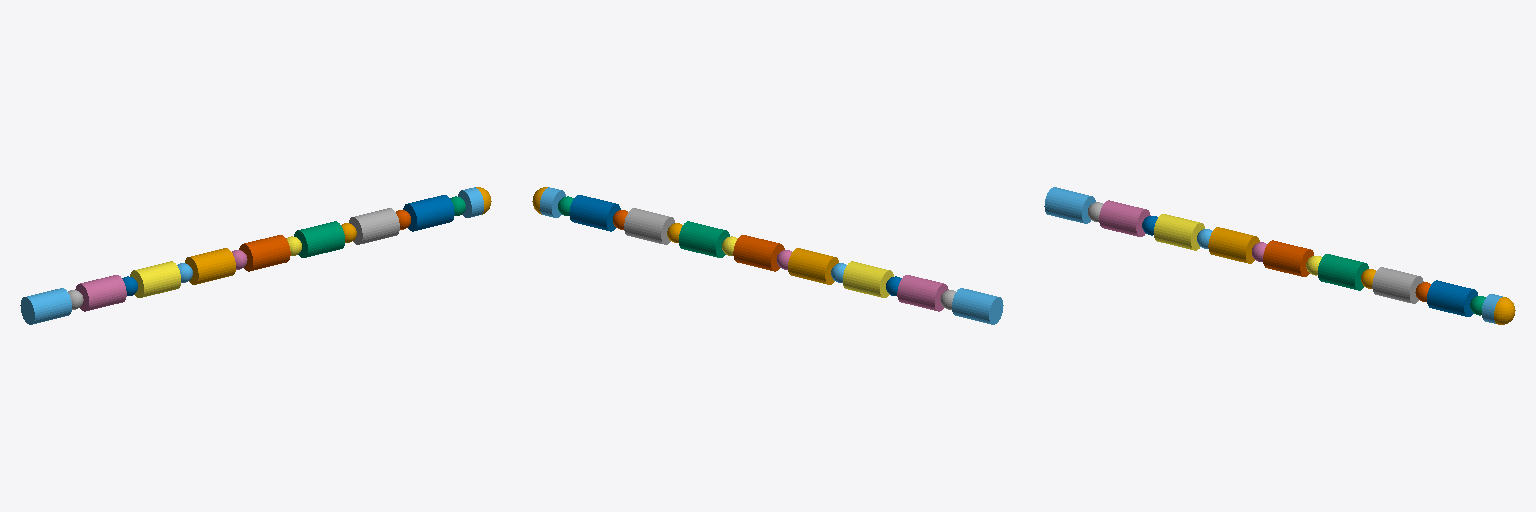
The robot description file, URDF, robot "snake/snake_8_segments":
<?xml version="1.0"?>
<robot name="snake/snake_8_segments">
<link name="eye">
  <inertial>
   <mass value="1"/>
   <inertia ixx="0.004000000000000001" ixy="0" ixz="0" iyy="0.004000000000000001" iyz="0" izz="0.004000000000000001"/>
  </inertial>
  <collision>
    <origin rpy="0 0 0" xyz="0 0 0"/>
    <geometry>
      <sphere radius="0.1"/>
    </geometry>
  </collision>
  <visual>
    <origin rpy="0 0 0" xyz="0 0 0"/>
    <geometry>
      <sphere radius="0.1"/>
    </geometry>
  </visual>
</link>

 <link name="body0">
  <inertial>
    <mass value="1"/>
    <inertia ixx="0.003333333333333334" ixy="0" ixz="0" iyy="0.003333333333333334" iyz="0" izz="0.0025000000000000005"/>
  </inertial>
  <visual>
    <origin rpy="0 1.57 0" xyz="0 0 0"/>
    <geometry>
      <cylinder length="0.1" radius="0.1"/>
    </geometry>
  </visual>
  <collision>
    <origin rpy="0 1.57 0" xyz="0 0 0"/>
    <geometry>
      <cylinder length="0.1" radius="0.1"/>
    </geometry>
  </collision>
 </link>

<joint name="joint_fixed_eye_body0" type="fixed">
  <origin rpy="0 0 0" xyz="-0.05 0 0"/>
  <parent link="eye"/>
  <child link="body0"/>
</joint>

<link name="body1_joint_link">
  <inertial>
   <mass value="1"/>
   <inertia ixx="0.0019599999999999995" ixy="0" ixz="0" iyy="0.0019599999999999995" iyz="0" izz="0.0019599999999999995"/>
  </inertial>
  <collision>
    <origin rpy="0 0 0" xyz="0 0 0"/>
    <geometry>
      <sphere radius="0.06999999999999999"/>
    </geometry>
  </collision>
  <visual>
    <origin rpy="0 0 0" xyz="0 0 0"/>
    <geometry>
      <sphere radius="0.06999999999999999"/>
    </geometry>
  </visual>
</link>

<joint name="joint_fixed_body0_body1_joint_link" type="fixed">
  <origin rpy="0 0 0" xyz="-0.12000999999999999 0 0"/>
  <parent link="body0"/>
  <child link="body1_joint_link"/>
</joint>

<joint name="joint_spherical_body1_joint_link_body1_Z" type="revolute">
  <origin rpy="0 0 0" xyz="0 0 0"/>
  <parent link="body1_joint_link"/>
  <child link="body1_joint_link_spherical_joint_link"/>
  <axis xyz="0 0 1"/>
  <dynamics damping="0.01" friction="0.5"/>
  <limit lower="-1.1780972450961724" upper="1.1780972450961724" effort="0.01" velocity="100"/>
</joint>

<link name="body1_joint_link_spherical_joint_link" physical="0">
  <inertial>
   <mass value="1"/>
   <inertia ixx="4.0000000000000003e-07" ixy="0" ixz="0" iyy="4.0000000000000003e-07" iyz="0" izz="4.0000000000000003e-07"/>
  </inertial>
  <collision>
    <origin rpy="0 0 0" xyz="0 0 0"/>
    <geometry>
      <sphere radius="0.001"/>
    </geometry>
  </collision>
  <visual>
    <origin rpy="0 0 0" xyz="0 0 0"/>
    <geometry>
      <sphere radius="0.001"/>
    </geometry>
  </visual>
</link>

<joint name="joint_spherical_body1_joint_link_body1_Y" type="revolute">
  <origin rpy="0 0 0" xyz="0 0 0"/>
  <parent link="body1_joint_link_spherical_joint_link"/>
  <child link="body1"/>
  <axis xyz="0 1 0"/>
  <dynamics damping="0.01" friction="0.5"/>
  <limit lower="-1.1780972450961724" upper="1.1780972450961724" effort="0.01" velocity="100"/>
</joint>

 <link name="body1">
  <inertial>
    <mass value="1"/>
    <inertia ixx="0.010000000000000002" ixy="0" ixz="0" iyy="0.010000000000000002" iyz="0" izz="0.0025000000000000005"/>
  </inertial>
  <visual>
    <origin rpy="0 1.57 0" xyz="-0.22001000000000004 0 0"/>
    <geometry>
      <cylinder length="0.30000000000000004" radius="0.1"/>
    </geometry>
  </visual>
  <collision>
    <origin rpy="0 1.57 0" xyz="-0.22001000000000004 0 0"/>
    <geometry>
      <cylinder length="0.30000000000000004" radius="0.1"/>
    </geometry>
  </collision>
 </link>

<link name="body2_joint_link">
  <inertial>
   <mass value="1"/>
   <inertia ixx="0.0019599999999999995" ixy="0" ixz="0" iyy="0.0019599999999999995" iyz="0" izz="0.0019599999999999995"/>
  </inertial>
  <collision>
    <origin rpy="0 0 0" xyz="0 0 0"/>
    <geometry>
      <sphere radius="0.06999999999999999"/>
    </geometry>
  </collision>
  <visual>
    <origin rpy="0 0 0" xyz="0 0 0"/>
    <geometry>
      <sphere radius="0.06999999999999999"/>
    </geometry>
  </visual>
</link>

<joint name="joint_fixed_body1_body2_joint_link" type="fixed">
  <origin rpy="0 0 0" xyz="-0.44001000000000007 0 0"/>
  <parent link="body1"/>
  <child link="body2_joint_link"/>
</joint>

<joint name="joint_spherical_body2_joint_link_body2_Z" type="revolute">
  <origin rpy="0 0 0" xyz="0 0 0"/>
  <parent link="body2_joint_link"/>
  <child link="body2_joint_link_spherical_joint_link"/>
  <axis xyz="0 0 1"/>
  <dynamics damping="0.01" friction="0.5"/>
  <limit lower="-1.1780972450961724" upper="1.1780972450961724" effort="0.01" velocity="100"/>
</joint>

<link name="body2_joint_link_spherical_joint_link" physical="0">
  <inertial>
   <mass value="1"/>
   <inertia ixx="4.0000000000000003e-07" ixy="0" ixz="0" iyy="4.0000000000000003e-07" iyz="0" izz="4.0000000000000003e-07"/>
  </inertial>
  <collision>
    <origin rpy="0 0 0" xyz="0 0 0"/>
    <geometry>
      <sphere radius="0.001"/>
    </geometry>
  </collision>
  <visual>
    <origin rpy="0 0 0" xyz="0 0 0"/>
    <geometry>
      <sphere radius="0.001"/>
    </geometry>
  </visual>
</link>

<joint name="joint_spherical_body2_joint_link_body2_Y" type="revolute">
  <origin rpy="0 0 0" xyz="0 0 0"/>
  <parent link="body2_joint_link_spherical_joint_link"/>
  <child link="body2"/>
  <axis xyz="0 1 0"/>
  <dynamics damping="0.01" friction="0.5"/>
  <limit lower="-1.1780972450961724" upper="1.1780972450961724" effort="0.01" velocity="100"/>
</joint>

 <link name="body2">
  <inertial>
    <mass value="1"/>
    <inertia ixx="0.010000000000000002" ixy="0" ixz="0" iyy="0.010000000000000002" iyz="0" izz="0.0025000000000000005"/>
  </inertial>
  <visual>
    <origin rpy="0 1.57 0" xyz="-0.22001000000000004 0 0"/>
    <geometry>
      <cylinder length="0.30000000000000004" radius="0.1"/>
    </geometry>
  </visual>
  <collision>
    <origin rpy="0 1.57 0" xyz="-0.22001000000000004 0 0"/>
    <geometry>
      <cylinder length="0.30000000000000004" radius="0.1"/>
    </geometry>
  </collision>
 </link>

<link name="body3_joint_link">
  <inertial>
   <mass value="1"/>
   <inertia ixx="0.0019599999999999995" ixy="0" ixz="0" iyy="0.0019599999999999995" iyz="0" izz="0.0019599999999999995"/>
  </inertial>
  <collision>
    <origin rpy="0 0 0" xyz="0 0 0"/>
    <geometry>
      <sphere radius="0.06999999999999999"/>
    </geometry>
  </collision>
  <visual>
    <origin rpy="0 0 0" xyz="0 0 0"/>
    <geometry>
      <sphere radius="0.06999999999999999"/>
    </geometry>
  </visual>
</link>

<joint name="joint_fixed_body2_body3_joint_link" type="fixed">
  <origin rpy="0 0 0" xyz="-0.44001000000000007 0 0"/>
  <parent link="body2"/>
  <child link="body3_joint_link"/>
</joint>

<joint name="joint_spherical_body3_joint_link_body3_Z" type="revolute">
  <origin rpy="0 0 0" xyz="0 0 0"/>
  <parent link="body3_joint_link"/>
  <child link="body3_joint_link_spherical_joint_link"/>
  <axis xyz="0 0 1"/>
  <dynamics damping="0.01" friction="0.5"/>
  <limit lower="-1.1780972450961724" upper="1.1780972450961724" effort="0.01" velocity="100"/>
</joint>

<link name="body3_joint_link_spherical_joint_link" physical="0">
  <inertial>
   <mass value="1"/>
   <inertia ixx="4.0000000000000003e-07" ixy="0" ixz="0" iyy="4.0000000000000003e-07" iyz="0" izz="4.0000000000000003e-07"/>
  </inertial>
  <collision>
    <origin rpy="0 0 0" xyz="0 0 0"/>
    <geometry>
      <sphere radius="0.001"/>
    </geometry>
  </collision>
  <visual>
    <origin rpy="0 0 0" xyz="0 0 0"/>
    <geometry>
      <sphere radius="0.001"/>
    </geometry>
  </visual>
</link>

<joint name="joint_spherical_body3_joint_link_body3_Y" type="revolute">
  <origin rpy="0 0 0" xyz="0 0 0"/>
  <parent link="body3_joint_link_spherical_joint_link"/>
  <child link="body3"/>
  <axis xyz="0 1 0"/>
  <dynamics damping="0.01" friction="0.5"/>
  <limit lower="-1.1780972450961724" upper="1.1780972450961724" effort="0.01" velocity="100"/>
</joint>

 <link name="body3">
  <inertial>
    <mass value="1"/>
    <inertia ixx="0.010000000000000002" ixy="0" ixz="0" iyy="0.010000000000000002" iyz="0" izz="0.0025000000000000005"/>
  </inertial>
  <visual>
    <origin rpy="0 1.57 0" xyz="-0.22001000000000004 0 0"/>
    <geometry>
      <cylinder length="0.30000000000000004" radius="0.1"/>
    </geometry>
  </visual>
  <collision>
    <origin rpy="0 1.57 0" xyz="-0.22001000000000004 0 0"/>
    <geometry>
      <cylinder length="0.30000000000000004" radius="0.1"/>
    </geometry>
  </collision>
 </link>

<link name="body4_joint_link">
  <inertial>
   <mass value="1"/>
   <inertia ixx="0.0019599999999999995" ixy="0" ixz="0" iyy="0.0019599999999999995" iyz="0" izz="0.0019599999999999995"/>
  </inertial>
  <collision>
    <origin rpy="0 0 0" xyz="0 0 0"/>
    <geometry>
      <sphere radius="0.06999999999999999"/>
    </geometry>
  </collision>
  <visual>
    <origin rpy="0 0 0" xyz="0 0 0"/>
    <geometry>
      <sphere radius="0.06999999999999999"/>
    </geometry>
  </visual>
</link>

<joint name="joint_fixed_body3_body4_joint_link" type="fixed">
  <origin rpy="0 0 0" xyz="-0.44001000000000007 0 0"/>
  <parent link="body3"/>
  <child link="body4_joint_link"/>
</joint>

<joint name="joint_spherical_body4_joint_link_body4_Z" type="revolute">
  <origin rpy="0 0 0" xyz="0 0 0"/>
  <parent link="body4_joint_link"/>
  <child link="body4_joint_link_spherical_joint_link"/>
  <axis xyz="0 0 1"/>
  <dynamics damping="0.01" friction="0.5"/>
  <limit lower="-1.1780972450961724" upper="1.1780972450961724" effort="0.01" velocity="100"/>
</joint>

<link name="body4_joint_link_spherical_joint_link" physical="0">
  <inertial>
   <mass value="1"/>
   <inertia ixx="4.0000000000000003e-07" ixy="0" ixz="0" iyy="4.0000000000000003e-07" iyz="0" izz="4.0000000000000003e-07"/>
  </inertial>
  <collision>
    <origin rpy="0 0 0" xyz="0 0 0"/>
    <geometry>
      <sphere radius="0.001"/>
    </geometry>
  </collision>
  <visual>
    <origin rpy="0 0 0" xyz="0 0 0"/>
    <geometry>
      <sphere radius="0.001"/>
    </geometry>
  </visual>
</link>

<joint name="joint_spherical_body4_joint_link_body4_Y" type="revolute">
  <origin rpy="0 0 0" xyz="0 0 0"/>
  <parent link="body4_joint_link_spherical_joint_link"/>
  <child link="body4"/>
  <axis xyz="0 1 0"/>
  <dynamics damping="0.01" friction="0.5"/>
  <limit lower="-1.1780972450961724" upper="1.1780972450961724" effort="0.01" velocity="100"/>
</joint>

 <link name="body4">
  <inertial>
    <mass value="1"/>
    <inertia ixx="0.010000000000000002" ixy="0" ixz="0" iyy="0.010000000000000002" iyz="0" izz="0.0025000000000000005"/>
  </inertial>
  <visual>
    <origin rpy="0 1.57 0" xyz="-0.22001000000000004 0 0"/>
    <geometry>
      <cylinder length="0.30000000000000004" radius="0.1"/>
    </geometry>
  </visual>
  <collision>
    <origin rpy="0 1.57 0" xyz="-0.22001000000000004 0 0"/>
    <geometry>
      <cylinder length="0.30000000000000004" radius="0.1"/>
    </geometry>
  </collision>
 </link>

<link name="body5_joint_link">
  <inertial>
   <mass value="1"/>
   <inertia ixx="0.0019599999999999995" ixy="0" ixz="0" iyy="0.0019599999999999995" iyz="0" izz="0.0019599999999999995"/>
  </inertial>
  <collision>
    <origin rpy="0 0 0" xyz="0 0 0"/>
    <geometry>
      <sphere radius="0.06999999999999999"/>
    </geometry>
  </collision>
  <visual>
    <origin rpy="0 0 0" xyz="0 0 0"/>
    <geometry>
      <sphere radius="0.06999999999999999"/>
    </geometry>
  </visual>
</link>

<joint name="joint_fixed_body4_body5_joint_link" type="fixed">
  <origin rpy="0 0 0" xyz="-0.44001000000000007 0 0"/>
  <parent link="body4"/>
  <child link="body5_joint_link"/>
</joint>

<joint name="joint_spherical_body5_joint_link_body5_Z" type="revolute">
  <origin rpy="0 0 0" xyz="0 0 0"/>
  <parent link="body5_joint_link"/>
  <child link="body5_joint_link_spherical_joint_link"/>
  <axis xyz="0 0 1"/>
  <dynamics damping="0.01" friction="0.5"/>
  <limit lower="-1.1780972450961724" upper="1.1780972450961724" effort="0.01" velocity="100"/>
</joint>

<link name="body5_joint_link_spherical_joint_link" physical="0">
  <inertial>
   <mass value="1"/>
   <inertia ixx="4.0000000000000003e-07" ixy="0" ixz="0" iyy="4.0000000000000003e-07" iyz="0" izz="4.0000000000000003e-07"/>
  </inertial>
  <collision>
    <origin rpy="0 0 0" xyz="0 0 0"/>
    <geometry>
      <sphere radius="0.001"/>
    </geometry>
  </collision>
  <visual>
    <origin rpy="0 0 0" xyz="0 0 0"/>
    <geometry>
      <sphere radius="0.001"/>
    </geometry>
  </visual>
</link>

<joint name="joint_spherical_body5_joint_link_body5_Y" type="revolute">
  <origin rpy="0 0 0" xyz="0 0 0"/>
  <parent link="body5_joint_link_spherical_joint_link"/>
  <child link="body5"/>
  <axis xyz="0 1 0"/>
  <dynamics damping="0.01" friction="0.5"/>
  <limit lower="-1.1780972450961724" upper="1.1780972450961724" effort="0.01" velocity="100"/>
</joint>

 <link name="body5">
  <inertial>
    <mass value="1"/>
    <inertia ixx="0.010000000000000002" ixy="0" ixz="0" iyy="0.010000000000000002" iyz="0" izz="0.0025000000000000005"/>
  </inertial>
  <visual>
    <origin rpy="0 1.57 0" xyz="-0.22001000000000004 0 0"/>
    <geometry>
      <cylinder length="0.30000000000000004" radius="0.1"/>
    </geometry>
  </visual>
  <collision>
    <origin rpy="0 1.57 0" xyz="-0.22001000000000004 0 0"/>
    <geometry>
      <cylinder length="0.30000000000000004" radius="0.1"/>
    </geometry>
  </collision>
 </link>

<link name="body6_joint_link">
  <inertial>
   <mass value="1"/>
   <inertia ixx="0.0019599999999999995" ixy="0" ixz="0" iyy="0.0019599999999999995" iyz="0" izz="0.0019599999999999995"/>
  </inertial>
  <collision>
    <origin rpy="0 0 0" xyz="0 0 0"/>
    <geometry>
      <sphere radius="0.06999999999999999"/>
    </geometry>
  </collision>
  <visual>
    <origin rpy="0 0 0" xyz="0 0 0"/>
    <geometry>
      <sphere radius="0.06999999999999999"/>
    </geometry>
  </visual>
</link>

<joint name="joint_fixed_body5_body6_joint_link" type="fixed">
  <origin rpy="0 0 0" xyz="-0.44001000000000007 0 0"/>
  <parent link="body5"/>
  <child link="body6_joint_link"/>
</joint>

<joint name="joint_spherical_body6_joint_link_body6_Z" type="revolute">
  <origin rpy="0 0 0" xyz="0 0 0"/>
  <parent link="body6_joint_link"/>
  <child link="body6_joint_link_spherical_joint_link"/>
  <axis xyz="0 0 1"/>
  <dynamics damping="0.01" friction="0.5"/>
  <limit lower="-1.1780972450961724" upper="1.1780972450961724" effort="0.01" velocity="100"/>
</joint>

<link name="body6_joint_link_spherical_joint_link" physical="0">
  <inertial>
   <mass value="1"/>
   <inertia ixx="4.0000000000000003e-07" ixy="0" ixz="0" iyy="4.0000000000000003e-07" iyz="0" izz="4.0000000000000003e-07"/>
  </inertial>
  <collision>
    <origin rpy="0 0 0" xyz="0 0 0"/>
    <geometry>
      <sphere radius="0.001"/>
    </geometry>
  </collision>
  <visual>
    <origin rpy="0 0 0" xyz="0 0 0"/>
    <geometry>
      <sphere radius="0.001"/>
    </geometry>
  </visual>
</link>

<joint name="joint_spherical_body6_joint_link_body6_Y" type="revolute">
  <origin rpy="0 0 0" xyz="0 0 0"/>
  <parent link="body6_joint_link_spherical_joint_link"/>
  <child link="body6"/>
  <axis xyz="0 1 0"/>
  <dynamics damping="0.01" friction="0.5"/>
  <limit lower="-1.1780972450961724" upper="1.1780972450961724" effort="0.01" velocity="100"/>
</joint>

 <link name="body6">
  <inertial>
    <mass value="1"/>
    <inertia ixx="0.010000000000000002" ixy="0" ixz="0" iyy="0.010000000000000002" iyz="0" izz="0.0025000000000000005"/>
  </inertial>
  <visual>
    <origin rpy="0 1.57 0" xyz="-0.22001000000000004 0 0"/>
    <geometry>
      <cylinder length="0.30000000000000004" radius="0.1"/>
    </geometry>
  </visual>
  <collision>
    <origin rpy="0 1.57 0" xyz="-0.22001000000000004 0 0"/>
    <geometry>
      <cylinder length="0.30000000000000004" radius="0.1"/>
    </geometry>
  </collision>
 </link>

<link name="body7_joint_link">
  <inertial>
   <mass value="1"/>
   <inertia ixx="0.0019599999999999995" ixy="0" ixz="0" iyy="0.0019599999999999995" iyz="0" izz="0.0019599999999999995"/>
  </inertial>
  <collision>
    <origin rpy="0 0 0" xyz="0 0 0"/>
    <geometry>
      <sphere radius="0.06999999999999999"/>
    </geometry>
  </collision>
  <visual>
    <origin rpy="0 0 0" xyz="0 0 0"/>
    <geometry>
      <sphere radius="0.06999999999999999"/>
    </geometry>
  </visual>
</link>

<joint name="joint_fixed_body6_body7_joint_link" type="fixed">
  <origin rpy="0 0 0" xyz="-0.44001000000000007 0 0"/>
  <parent link="body6"/>
  <child link="body7_joint_link"/>
</joint>

<joint name="joint_spherical_body7_joint_link_body7_Z" type="revolute">
  <origin rpy="0 0 0" xyz="0 0 0"/>
  <parent link="body7_joint_link"/>
  <child link="body7_joint_link_spherical_joint_link"/>
  <axis xyz="0 0 1"/>
  <dynamics damping="0.01" friction="0.5"/>
  <limit lower="-1.1780972450961724" upper="1.1780972450961724" effort="0.01" velocity="100"/>
</joint>

<link name="body7_joint_link_spherical_joint_link" physical="0">
  <inertial>
   <mass value="1"/>
   <inertia ixx="4.0000000000000003e-07" ixy="0" ixz="0" iyy="4.0000000000000003e-07" iyz="0" izz="4.0000000000000003e-07"/>
  </inertial>
  <collision>
    <origin rpy="0 0 0" xyz="0 0 0"/>
    <geometry>
      <sphere radius="0.001"/>
    </geometry>
  </collision>
  <visual>
    <origin rpy="0 0 0" xyz="0 0 0"/>
    <geometry>
      <sphere radius="0.001"/>
    </geometry>
  </visual>
</link>

<joint name="joint_spherical_body7_joint_link_body7_Y" type="revolute">
  <origin rpy="0 0 0" xyz="0 0 0"/>
  <parent link="body7_joint_link_spherical_joint_link"/>
  <child link="body7"/>
  <axis xyz="0 1 0"/>
  <dynamics damping="0.01" friction="0.5"/>
  <limit lower="-1.1780972450961724" upper="1.1780972450961724" effort="0.01" velocity="100"/>
</joint>

 <link name="body7">
  <inertial>
    <mass value="1"/>
    <inertia ixx="0.010000000000000002" ixy="0" ixz="0" iyy="0.010000000000000002" iyz="0" izz="0.0025000000000000005"/>
  </inertial>
  <visual>
    <origin rpy="0 1.57 0" xyz="-0.22001000000000004 0 0"/>
    <geometry>
      <cylinder length="0.30000000000000004" radius="0.1"/>
    </geometry>
  </visual>
  <collision>
    <origin rpy="0 1.57 0" xyz="-0.22001000000000004 0 0"/>
    <geometry>
      <cylinder length="0.30000000000000004" radius="0.1"/>
    </geometry>
  </collision>
 </link>

<link name="body8_joint_link">
  <inertial>
   <mass value="1"/>
   <inertia ixx="0.0019599999999999995" ixy="0" ixz="0" iyy="0.0019599999999999995" iyz="0" izz="0.0019599999999999995"/>
  </inertial>
  <collision>
    <origin rpy="0 0 0" xyz="0 0 0"/>
    <geometry>
      <sphere radius="0.06999999999999999"/>
    </geometry>
  </collision>
  <visual>
    <origin rpy="0 0 0" xyz="0 0 0"/>
    <geometry>
      <sphere radius="0.06999999999999999"/>
    </geometry>
  </visual>
</link>

<joint name="joint_fixed_body7_body8_joint_link" type="fixed">
  <origin rpy="0 0 0" xyz="-0.44001000000000007 0 0"/>
  <parent link="body7"/>
  <child link="body8_joint_link"/>
</joint>

<joint name="joint_spherical_body8_joint_link_body8_Z" type="revolute">
  <origin rpy="0 0 0" xyz="0 0 0"/>
  <parent link="body8_joint_link"/>
  <child link="body8_joint_link_spherical_joint_link"/>
  <axis xyz="0 0 1"/>
  <dynamics damping="0.01" friction="0.5"/>
  <limit lower="-1.1780972450961724" upper="1.1780972450961724" effort="0.01" velocity="100"/>
</joint>

<link name="body8_joint_link_spherical_joint_link" physical="0">
  <inertial>
   <mass value="1"/>
   <inertia ixx="4.0000000000000003e-07" ixy="0" ixz="0" iyy="4.0000000000000003e-07" iyz="0" izz="4.0000000000000003e-07"/>
  </inertial>
  <collision>
    <origin rpy="0 0 0" xyz="0 0 0"/>
    <geometry>
      <sphere radius="0.001"/>
    </geometry>
  </collision>
  <visual>
    <origin rpy="0 0 0" xyz="0 0 0"/>
    <geometry>
      <sphere radius="0.001"/>
    </geometry>
  </visual>
</link>

<joint name="joint_spherical_body8_joint_link_body8_Y" type="revolute">
  <origin rpy="0 0 0" xyz="0 0 0"/>
  <parent link="body8_joint_link_spherical_joint_link"/>
  <child link="body8"/>
  <axis xyz="0 1 0"/>
  <dynamics damping="0.01" friction="0.5"/>
  <limit lower="-1.1780972450961724" upper="1.1780972450961724" effort="0.01" velocity="100"/>
</joint>

 <link name="body8">
  <inertial>
    <mass value="1"/>
    <inertia ixx="0.010000000000000002" ixy="0" ixz="0" iyy="0.010000000000000002" iyz="0" izz="0.0025000000000000005"/>
  </inertial>
  <visual>
    <origin rpy="0 1.57 0" xyz="-0.22001000000000004 0 0"/>
    <geometry>
      <cylinder length="0.30000000000000004" radius="0.1"/>
    </geometry>
  </visual>
  <collision>
    <origin rpy="0 1.57 0" xyz="-0.22001000000000004 0 0"/>
    <geometry>
      <cylinder length="0.30000000000000004" radius="0.1"/>
    </geometry>
  </collision>
 </link>

  <klampt package_root="../../.." default_acc_max="4" >
  </klampt>
</robot>

--- Render facts (derived) ---
The picture shows the robot from 3 angles, left to right: view 1: azimuth 30°, elevation 25°; view 2: azimuth 150°, elevation 25°; view 3: azimuth 330°, elevation 25°; orthographic projection.
Model snake/snake_8_segments with 26 links and 25 joints (16 revolute, 9 fixed), rooted at eye, posed all joints at 0.
Links seen in each view (by area): view 1: body8, body5, body6, body3, body7, body1, body2, body4, body0; view 2: body8, body5, body6, body3, body7, body1, body2, body4, body0; view 3: body2, body5, body8, body4, body7, body6, body1, body3.
Link boxes in pixels (bbox=[...]): body8: bbox=[20, 288, 71, 324]; body5: bbox=[185, 248, 235, 284]; body6: bbox=[130, 261, 180, 297]; body3: bbox=[294, 221, 344, 257]; body7: bbox=[75, 275, 126, 311]; body1: bbox=[403, 195, 454, 231]; body2: bbox=[349, 208, 399, 244]; body4: bbox=[239, 235, 290, 271]; body0: bbox=[458, 187, 483, 217]; body8: bbox=[952, 288, 1003, 324]; body5: bbox=[788, 248, 838, 284]; body6: bbox=[843, 261, 893, 297]; body3: bbox=[679, 221, 729, 257]; body7: bbox=[897, 275, 948, 311]; body1: bbox=[569, 195, 620, 231]; body2: bbox=[624, 208, 674, 244]; body4: bbox=[733, 235, 784, 271]; body0: bbox=[540, 187, 565, 217]; body2: bbox=[1372, 267, 1423, 303]; body5: bbox=[1208, 227, 1259, 263]; body8: bbox=[1044, 187, 1095, 223]; body4: bbox=[1263, 240, 1313, 276]; body7: bbox=[1099, 200, 1150, 236]; body6: bbox=[1154, 214, 1204, 250]; body1: bbox=[1427, 280, 1477, 316]; body3: bbox=[1318, 254, 1368, 290].
Bounding box of the posed robot: 3.72 × 0.2 × 0.2002 m (x, y, z).
Geometry: primitives only (box / cylinder / sphere), no mesh files.
